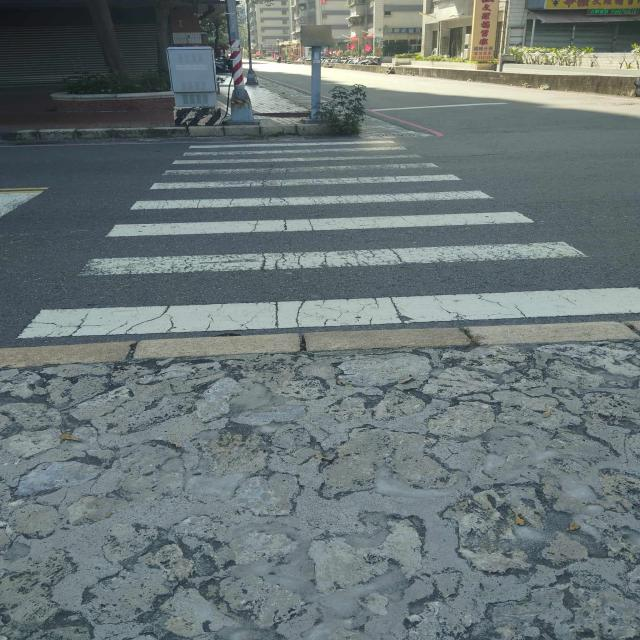zebra crossing: (22, 137, 640, 331)
